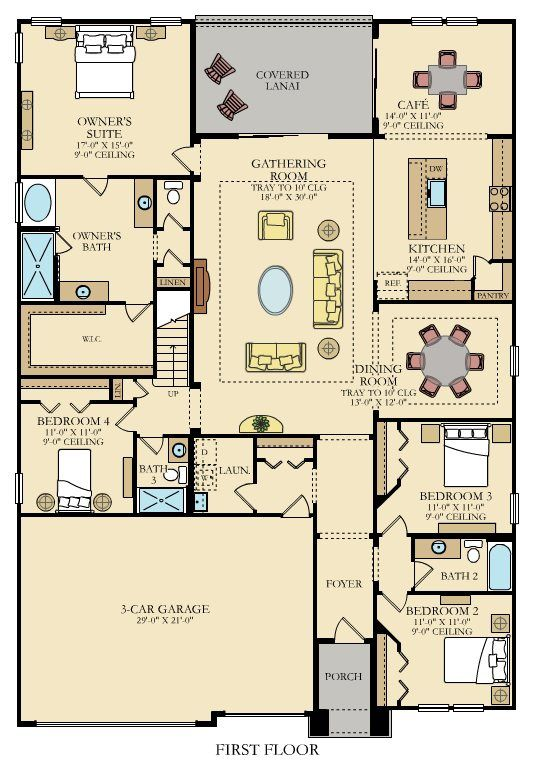door: (329, 614, 363, 634), (109, 408, 134, 435), (229, 481, 251, 508), (417, 560, 439, 587), (158, 207, 188, 226), (80, 179, 111, 197), (280, 493, 311, 511), (119, 304, 150, 322), (380, 595, 411, 613), (380, 512, 411, 530), (158, 244, 187, 263), (468, 248, 488, 274), (139, 437, 164, 456), (136, 377, 152, 399)
room: (8, 14, 196, 181), (6, 12, 194, 179), (371, 130, 518, 306), (12, 174, 203, 306), (369, 14, 518, 141), (369, 416, 518, 543), (368, 298, 517, 425), (369, 589, 518, 716), (11, 398, 139, 519), (14, 299, 159, 379), (405, 528, 519, 596), (186, 430, 257, 523), (250, 430, 319, 520), (129, 431, 193, 521)
window: (444, 13, 480, 30), (12, 179, 25, 224), (408, 13, 446, 28), (415, 702, 451, 717), (450, 700, 486, 715), (507, 491, 522, 526), (508, 343, 523, 378), (13, 29, 25, 65), (13, 470, 25, 506), (28, 14, 63, 26), (148, 15, 183, 27)
